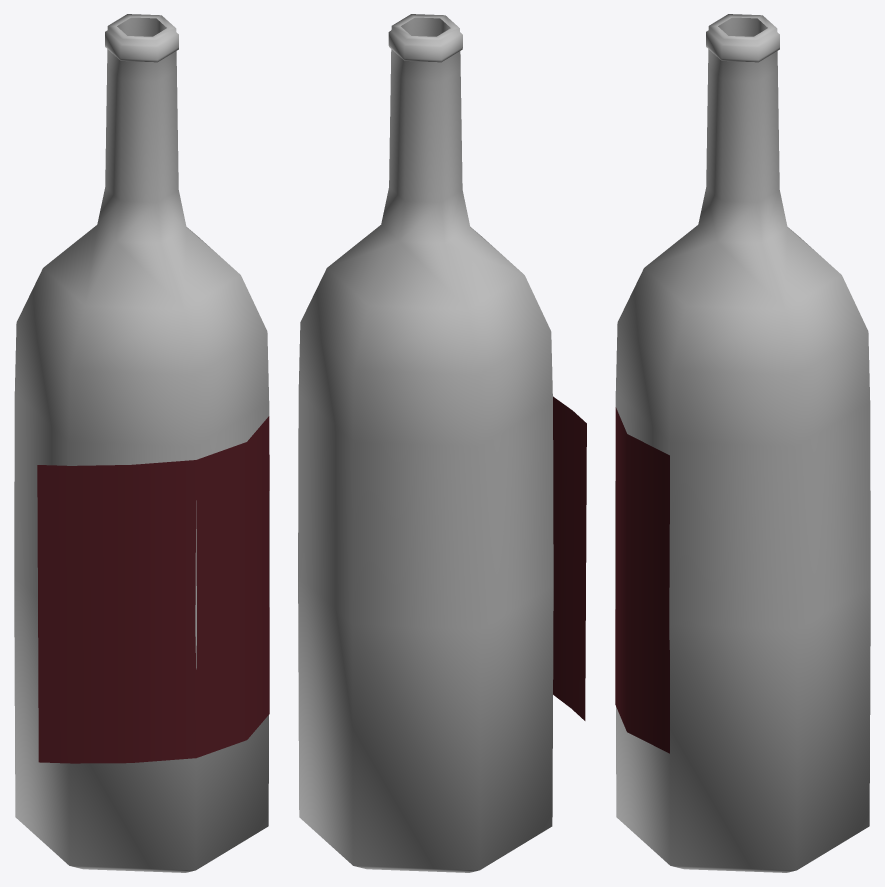
The model's file is Bottle.fbx.
3 renders of one model, left to right at view 1: azimuth 30°, elevation 25°; view 2: azimuth 150°, elevation 25°; view 3: azimuth 270°, elevation 25°, orthographic.
Visible parts, largest first — view 1: STZ_Wine_bottle_CR01.001; view 2: STZ_Wine_bottle_CR01.001; view 3: STZ_Wine_bottle_CR01.001.
Part boxes in pixels (<box>): STZ_Wine_bottle_CR01.001: <box>14,14,269,872</box>; STZ_Wine_bottle_CR01.001: <box>298,14,586,872</box>; STZ_Wine_bottle_CR01.001: <box>615,14,870,872</box>.
Size of the model in its own units: 14.77 by 48.76 by 14.
